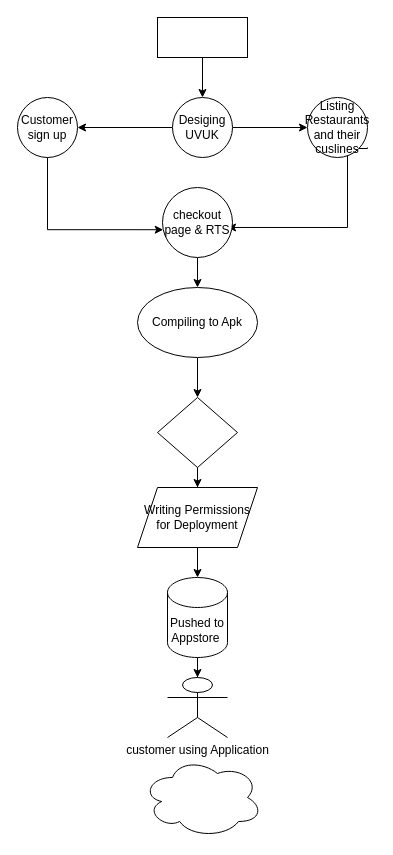
This 393x855 diagram has some shape labels left out. Each missing label, with the centre of its shape:
"No Bugs Found" goes at (x=197, y=432).
"Recived No Feedback" goes at (x=202, y=797).
"ZK Eats" goes at (x=202, y=37).
